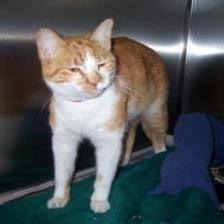cat: (28, 18, 126, 103)
